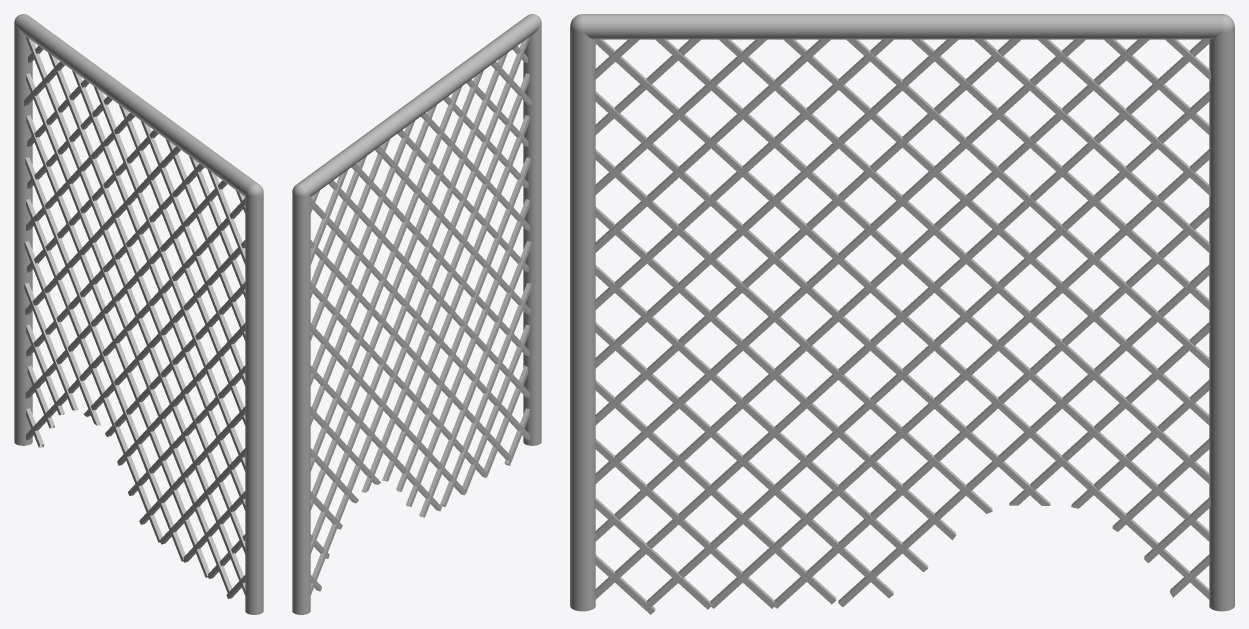
Rendered from Fence Broken.obj.
3 views of the same model, side by side, from view 1: azimuth 30°, elevation 25°; view 2: azimuth 150°, elevation 25°; view 3: azimuth 270°, elevation 25° (orthographic). The views are drawn at different scales.
Parts seen in each view (by area): view 1: Cube.001; view 2: Cube.001; view 3: Cube.001.
Part boxes in pixels (x1,y1,x2,y2): Cube.001: [14, 14, 263, 614]; Cube.001: [292, 14, 541, 614]; Cube.001: [570, 14, 1234, 614].
Size of the model in its own units: 0.4 by 10.33 by 10.4.
